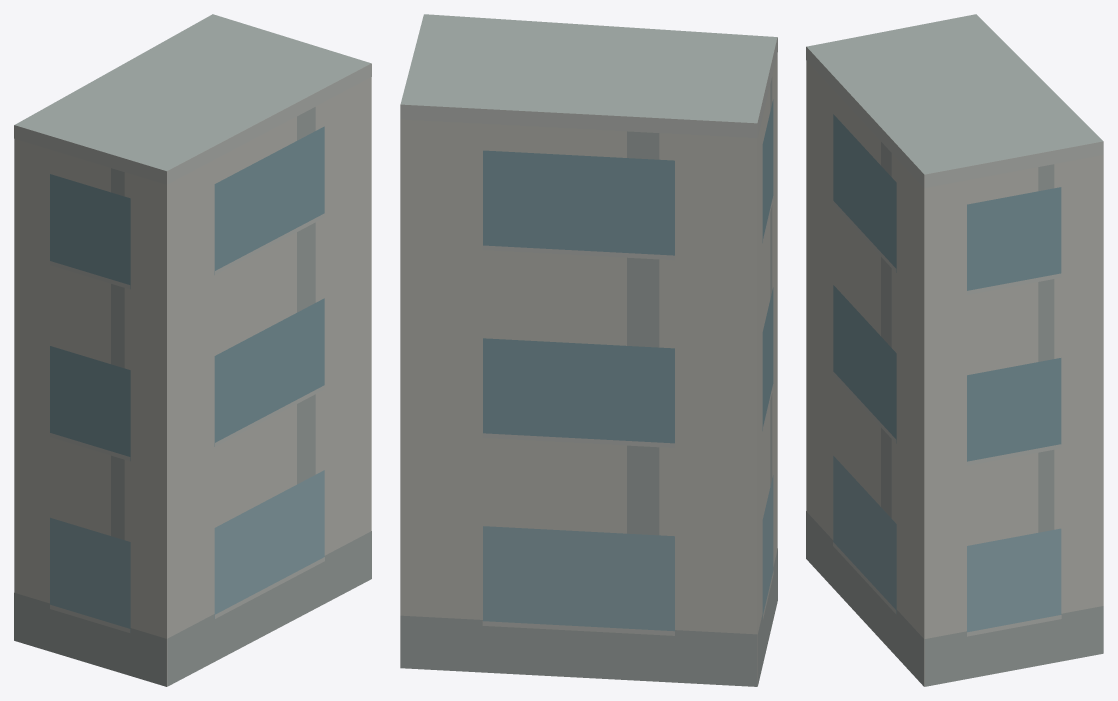
File: survey-upis-32520845.glb
3 renders of one model, left to right at view 1: azimuth 30°, elevation 25°; view 2: azimuth 150°, elevation 25°; view 3: azimuth 270°, elevation 25°, orthographic. The views are drawn at different scales.
Parts seen in each view (by area): view 1: survey-upis-32520845.tmp; view 2: survey-upis-32520845.tmp; view 3: survey-upis-32520845.tmp.
Boxes of the visible parts, <box> form: survey-upis-32520845.tmp: <box>14,14,371,686</box>; survey-upis-32520845.tmp: <box>400,14,777,686</box>; survey-upis-32520845.tmp: <box>806,14,1103,686</box>.
Size of the model in its own units: 6.16 by 9.15 by 4.82.
